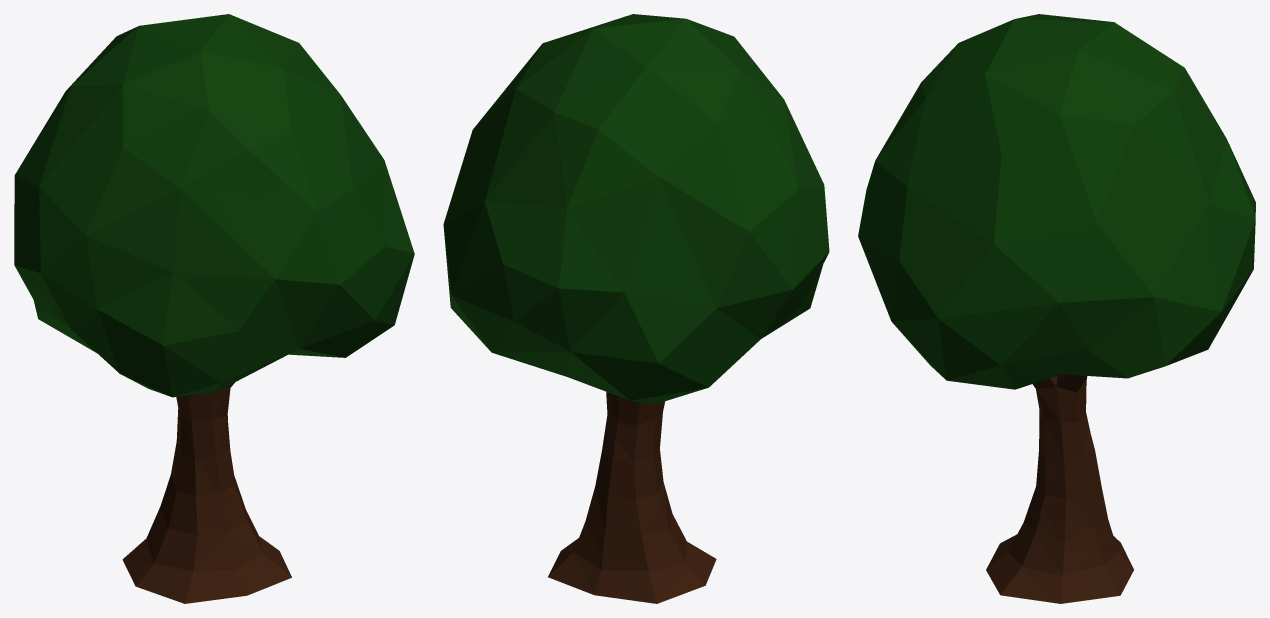
File: Tree1_Destr.FBX
The picture shows the model from 3 angles, left to right: view 1: azimuth 30°, elevation 25°; view 2: azimuth 150°, elevation 25°; view 3: azimuth 270°, elevation 25°; orthographic projection.
Visible parts, largest first — view 1: LowPoly_Tree_01_Plane_Plane_000_Part_11, LowPoly_Tree_01_Plane_Plane_000_Part_17, LowPoly_Tree_01_Plane_Plane_000_Part_10, LowPoly_Tree_01_Plane_Plane_000_Part_12, LowPoly_Tree_01_Plane_Plane_000_Part_6, LowPoly_Tree_01_Plane_Plane_000_Part_3, LowPoly_Tree_01_Plane_Plane_000_Part_1_Part_2, LowPoly_Tree_01_Plane_Plane_000_Part_9, LowPoly_Tree_01_Plane_Plane_000_Part_7, LowPoly_Tree_01_Plane_Plane_000_Part_1_Part_4, LowPoly_Tree_01_Plane_Plane_000_Part_1_Part_3, LowPoly_Tree_01_Plane_Plane_000_Part_14 (+1 smaller); view 2: LowPoly_Tree_01_Plane_Plane_000_Part_9, LowPoly_Tree_01_Plane_Plane_000_Part_16, LowPoly_Tree_01_Plane_Plane_000_Part_14, LowPoly_Tree_01_Plane_Plane_000_Part_7, LowPoly_Tree_01_Plane_Plane_000_Part_18, LowPoly_Tree_01_Plane_Plane_000_Part_13, LowPoly_Tree_01_Plane_Plane_000_Part_1_Part_3, LowPoly_Tree_01_Plane_Plane_000_Part_10, LowPoly_Tree_01_Plane_Plane_000_Part_1_Part_2, LowPoly_Tree_01_Plane_Plane_000_Part_5, LowPoly_Tree_01_Plane_Plane_000_Part_20, LowPoly_Tree_01_Plane_Plane_000_Part_1_Part_1 (+5 smaller); view 3: LowPoly_Tree_01_Plane_Plane_000_Part_6, LowPoly_Tree_01_Plane_Plane_000_Part_2, LowPoly_Tree_01_Plane_Plane_000_Part_11, LowPoly_Tree_01_Plane_Plane_000_Part_7, LowPoly_Tree_01_Plane_Plane_000_Part_20, LowPoly_Tree_01_Plane_Plane_000_Part_18, LowPoly_Tree_01_Plane_Plane_000_Part_5, LowPoly_Tree_01_Plane_Plane_000_Part_1_Part_2, LowPoly_Tree_01_Plane_Plane_000_Part_1_Part_4, LowPoly_Tree_01_Plane_Plane_000_Part_1_Part_1, LowPoly_Tree_01_Plane_Plane_000_Part_16, LowPoly_Tree_01_Plane_Plane_000_Part_1_Part_5 (+4 smaller).
Part boxes in pixels (x1=…): LowPoly_Tree_01_Plane_Plane_000_Part_11: x1=213, y1=171, x2=414, y2=342; LowPoly_Tree_01_Plane_Plane_000_Part_17: x1=63, y1=123, x2=257, y2=300; LowPoly_Tree_01_Plane_Plane_000_Part_10: x1=81, y1=54, x2=267, y2=194; LowPoly_Tree_01_Plane_Plane_000_Part_12: x1=14, y1=231, x2=190, y2=388; LowPoly_Tree_01_Plane_Plane_000_Part_6: x1=230, y1=41, x2=387, y2=183; LowPoly_Tree_01_Plane_Plane_000_Part_3: x1=151, y1=290, x2=369, y2=397; LowPoly_Tree_01_Plane_Plane_000_Part_1_Part_2: x1=122, y1=512, x2=291, y2=603; LowPoly_Tree_01_Plane_Plane_000_Part_9: x1=14, y1=89, x2=83, y2=264; LowPoly_Tree_01_Plane_Plane_000_Part_7: x1=113, y1=14, x2=294, y2=73; LowPoly_Tree_01_Plane_Plane_000_Part_1_Part_4: x1=176, y1=387, x2=237, y2=521; LowPoly_Tree_01_Plane_Plane_000_Part_1_Part_3: x1=158, y1=414, x2=217, y2=537; LowPoly_Tree_01_Plane_Plane_000_Part_14: x1=49, y1=30, x2=129, y2=118; LowPoly_Tree_01_Plane_Plane_000_Part_9: x1=651, y1=112, x2=818, y2=331; LowPoly_Tree_01_Plane_Plane_000_Part_16: x1=510, y1=105, x2=653, y2=366; LowPoly_Tree_01_Plane_Plane_000_Part_14: x1=576, y1=85, x2=727, y2=293; LowPoly_Tree_01_Plane_Plane_000_Part_7: x1=497, y1=16, x2=698, y2=106; LowPoly_Tree_01_Plane_Plane_000_Part_18: x1=445, y1=231, x2=588, y2=373; LowPoly_Tree_01_Plane_Plane_000_Part_13: x1=587, y1=315, x2=756, y2=385; LowPoly_Tree_01_Plane_Plane_000_Part_1_Part_3: x1=597, y1=431, x2=673, y2=545; LowPoly_Tree_01_Plane_Plane_000_Part_10: x1=689, y1=20, x2=784, y2=125; LowPoly_Tree_01_Plane_Plane_000_Part_1_Part_2: x1=571, y1=514, x2=716, y2=603; LowPoly_Tree_01_Plane_Plane_000_Part_5: x1=492, y1=99, x2=559, y2=225; LowPoly_Tree_01_Plane_Plane_000_Part_20: x1=443, y1=114, x2=511, y2=243; LowPoly_Tree_01_Plane_Plane_000_Part_1_Part_1: x1=578, y1=474, x2=657, y2=560; LowPoly_Tree_01_Plane_Plane_000_Part_6: x1=896, y1=44, x2=1101, y2=252; LowPoly_Tree_01_Plane_Plane_000_Part_2: x1=982, y1=171, x2=1138, y2=388; LowPoly_Tree_01_Plane_Plane_000_Part_11: x1=858, y1=122, x2=986, y2=385; LowPoly_Tree_01_Plane_Plane_000_Part_7: x1=989, y1=17, x2=1165, y2=171; LowPoly_Tree_01_Plane_Plane_000_Part_20: x1=1114, y1=179, x2=1241, y2=359; LowPoly_Tree_01_Plane_Plane_000_Part_18: x1=1127, y1=201, x2=1255, y2=374; LowPoly_Tree_01_Plane_Plane_000_Part_5: x1=1111, y1=86, x2=1229, y2=194; LowPoly_Tree_01_Plane_Plane_000_Part_1_Part_2: x1=986, y1=511, x2=1127, y2=602; LowPoly_Tree_01_Plane_Plane_000_Part_1_Part_4: x1=1028, y1=388, x2=1090, y2=509; LowPoly_Tree_01_Plane_Plane_000_Part_1_Part_1: x1=1027, y1=482, x2=1115, y2=552; LowPoly_Tree_01_Plane_Plane_000_Part_16: x1=1165, y1=75, x2=1255, y2=212; LowPoly_Tree_01_Plane_Plane_000_Part_1_Part_5: x1=1051, y1=546, x2=1133, y2=603.
Bounding box in the file's own units: 3.43 × 5.07 × 3.42.
